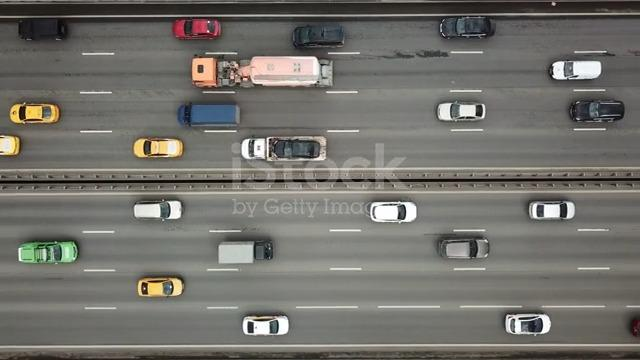Cars: (244, 56, 334, 88), (241, 136, 327, 162), (178, 102, 241, 128), (18, 240, 79, 264), (440, 16, 496, 40), (293, 24, 346, 49), (570, 99, 625, 123), (10, 102, 60, 125), (173, 18, 222, 41), (549, 60, 602, 81), (134, 137, 184, 159), (437, 101, 486, 123), (138, 277, 184, 298), (1, 135, 21, 156)
